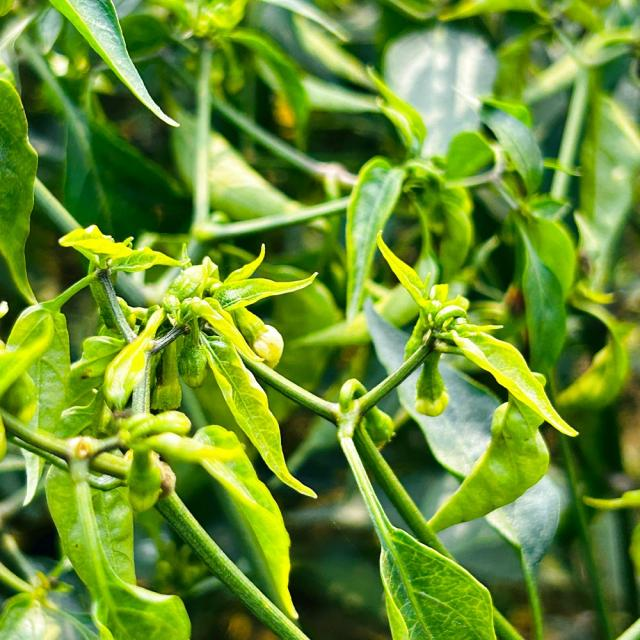Chilli_Leaf_Curl: (2, 0, 636, 638), (2, 224, 321, 637), (98, 240, 320, 498), (370, 229, 580, 438), (424, 396, 551, 534), (48, 0, 181, 129), (378, 527, 497, 639), (343, 155, 406, 325)
